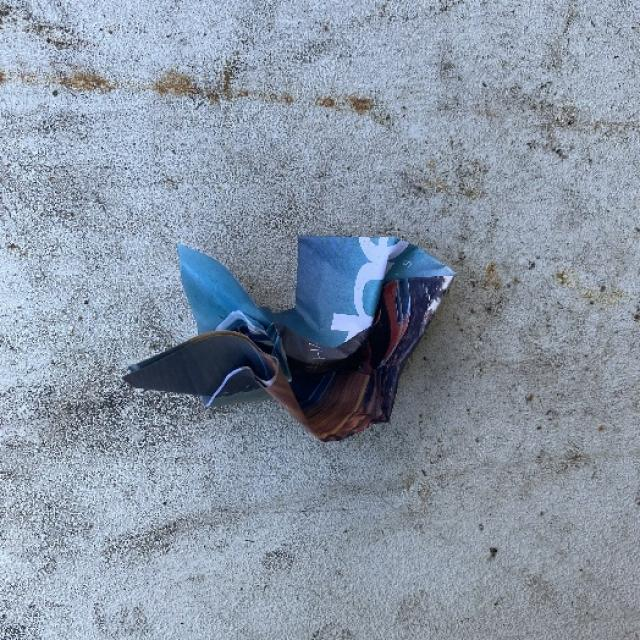inorganic: (115, 224, 457, 442)
